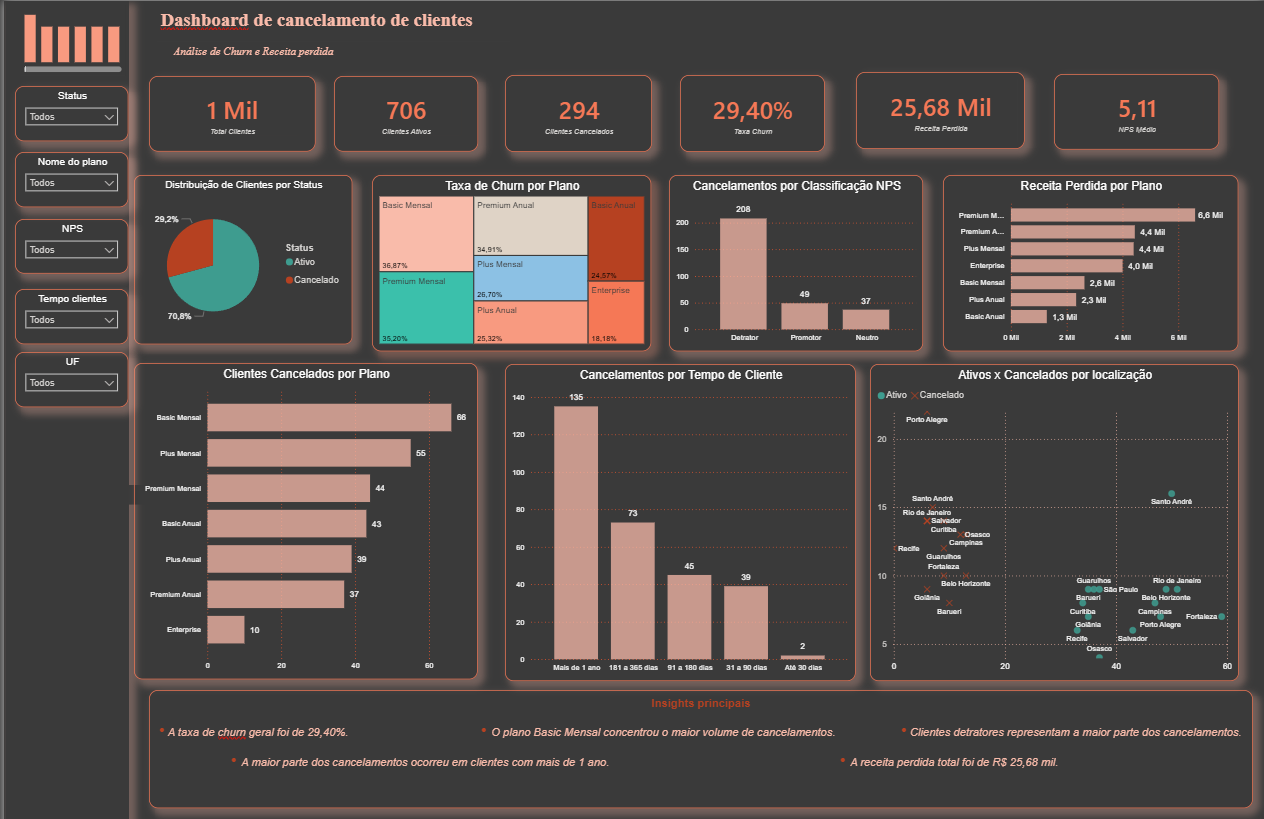

Layout of this report page (visuals, bound fields, positions):
{"tool":"powerbi","page":{"name":"Página 1","canvas":[1800,1200],"ordinal":0},"visuals":[{"type":"shape","box":[2.5,0,175.9,1200],"z":0},{"type":"textbox","box":[218.4,7.4,505.1,51.5],"z":2000},{"type":"textbox","box":[172,692,468,28],"z":3000},{"type":"textbox","box":[237.3,58.8,467.3,34.7],"z":4000},{"type":"cardVisual","fields":{"Data":["Base_Clientes.Total Clientes"]},"box":[207.2,106.8,237.9,108.5],"z":5000},{"type":"cardVisual","fields":{"Data":["Base_Clientes.Clientes Ativos"]},"box":[471,106.8,205.6,108.5],"z":6000},{"type":"cardVisual","fields":{"Data":["Base_Clientes.Clientes Cancelados"]},"box":[715.5,105.2,210.4,110.1],"z":7000},{"type":"cardVisual","fields":{"Data":["Base_Clientes.Taxa Churn"]},"box":[966.4,105.2,207.2,110.1],"z":8000},{"type":"cardVisual","fields":{"Data":["Base_Clientes.Receita Perdida"]},"box":[1217.3,102,241.2,110.1],"z":9000},{"type":"cardVisual","fields":{"Data":["Base_Clientes.NPS Médio"]},"box":[1500.5,103.6,236.3,108.5],"z":10000},{"type":"pieChart","title":"Distribuição de Clientes por Status","fields":{"Category":["Base_Clientes.Status"],"Y":["Base_Clientes.Total Clientes"]},"box":[186.2,249,311.9,242],"z":10001},{"type":"clusteredBarChart","title":"Clientes Cancelados por Plano","fields":{"Category":["Base_Clientes.Nome_Plano"],"Y":["Base_Clientes.Clientes Cancelados"]},"box":[186.3,517.1,490.7,451.9],"z":10002},{"type":"treemap","title":"Taxa de Churn por Plano","fields":{"Group":["Base_Clientes.Nome_Plano"],"Values":["Base_Clientes.Taxa Churn"]},"box":[526.4,248.4,399.1,251.6],"z":10003},{"type":"clusteredColumnChart","title":"Cancelamentos por Classificação NPS","fields":{"Category":["Base_Clientes.Classificacao_NPS"],"Y":["Base_Clientes.Clientes Cancelados"]},"box":[950.3,248.4,363.4,251.6],"z":10004},{"type":"clusteredBarChart","title":"Receita Perdida por Plano","fields":{"Category":["Base_Clientes.Nome_Plano"],"Y":["Base_Clientes.Receita Perdida"]},"box":[1342.1,249,422.1,251.8],"z":10005},{"type":"clusteredColumnChart","title":"Cancelamentos por Tempo de Cliente","fields":{"Category":["Base_Clientes.Faixa_Tempo_Cliente"],"Y":["Base_Clientes.Clientes Cancelados"]},"box":[715.5,518,501.2,452.8],"z":10006},{"type":"scatterChart","title":"Ativos x Cancelados por localização","fields":{"Category":["Base_Clientes.Cidade"],"X":["Base_Clientes.Clientes Ativos"],"Y":["Base_Clientes.Clientes Cancelados"],"Series":["Base_Clientes.Status"]},"box":[1237.3,518,527.3,452.8],"z":10007},{"type":"slicer","title":"Status","fields":{"Values":["Base_Clientes.Status"]},"box":[16.4,120.9,162.5,79.4],"z":10008},{"type":"slicer","title":"Nome do plano","fields":{"Values":["Base_Clientes.Nome_Plano"]},"box":[16.4,215.4,162.5,79.4],"z":10009},{"type":"slicer","title":"NPS","fields":{"Values":["Base_Clientes.Classificacao_NPS"]},"box":[16.4,311.1,162.5,78.1],"z":10010},{"type":"slicer","title":"Tempo clientes","fields":{"Values":["Base_Clientes.Faixa_Tempo_Cliente"]},"box":[16.4,411.9,162.5,79.4],"z":10011},{"type":"slicer","title":"UF","fields":{"Values":["Base_Clientes.UF"]},"box":[16.4,501.3,162.5,79.4],"z":10012},{"type":"columnChart","fields":{"Category":["Base_Clientes.Nome_Cliente"],"Y":["Base_Clientes.Clientes Cancelados"]},"box":[23.9,6.3,148.6,100.8],"z":10013},{"type":"textbox","box":[207.1,984.3,1577.1,168.6],"z":10014}]}

Visuals, with their boxes in screenshot pixels (x1, y1, x2, y2), scaled from the page's 1800x1200 canvas onto the 1264x819 screenshot:
shape: 2:0:125:818
textbox: 153:5:508:40
textbox: 121:472:449:491
textbox: 167:40:495:64
cardVisual - Base_Clientes.Total Clientes: 146:73:313:147
cardVisual - Base_Clientes.Clientes Ativos: 331:73:475:147
cardVisual - Base_Clientes.Clientes Cancelados: 502:72:650:147
cardVisual - Base_Clientes.Taxa Churn: 679:72:824:147
cardVisual - Base_Clientes.Receita Perdida: 855:70:1024:145
cardVisual - Base_Clientes.NPS Médio: 1054:71:1220:145
"Distribuição de Clientes por Status" pieChart: 131:170:350:335
"Clientes Cancelados por Plano" clusteredBarChart: 131:353:475:661
"Taxa de Churn por Plano" treemap: 370:170:650:341
"Cancelamentos por Classificação NPS" clusteredColumnChart: 667:170:923:341
"Receita Perdida por Plano" clusteredBarChart: 942:170:1239:342
"Cancelamentos por Tempo de Cliente" clusteredColumnChart: 502:354:854:663
"Ativos x Cancelados por localização" scatterChart: 869:354:1239:663
"Status" slicer: 12:83:126:137
"Nome do plano" slicer: 12:147:126:201
"NPS" slicer: 12:212:126:266
"Tempo clientes" slicer: 12:281:126:335
"UF" slicer: 12:342:126:396
columnChart - Base_Clientes.Nome_Cliente x Base_Clientes.Clientes Cancelados: 17:4:121:73
textbox: 145:672:1253:787
